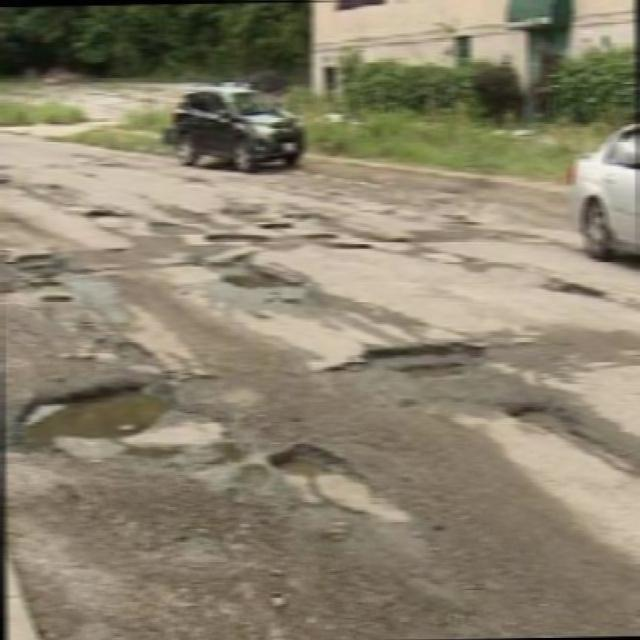Pothole: (256, 430, 420, 528), (5, 367, 176, 443), (498, 396, 640, 478), (310, 340, 498, 386), (0, 234, 79, 308), (205, 251, 306, 304), (541, 269, 610, 307), (0, 175, 62, 209), (438, 207, 485, 233), (205, 231, 269, 244), (376, 230, 416, 248), (82, 207, 140, 218), (294, 232, 338, 246), (330, 242, 373, 254), (255, 217, 292, 230)
